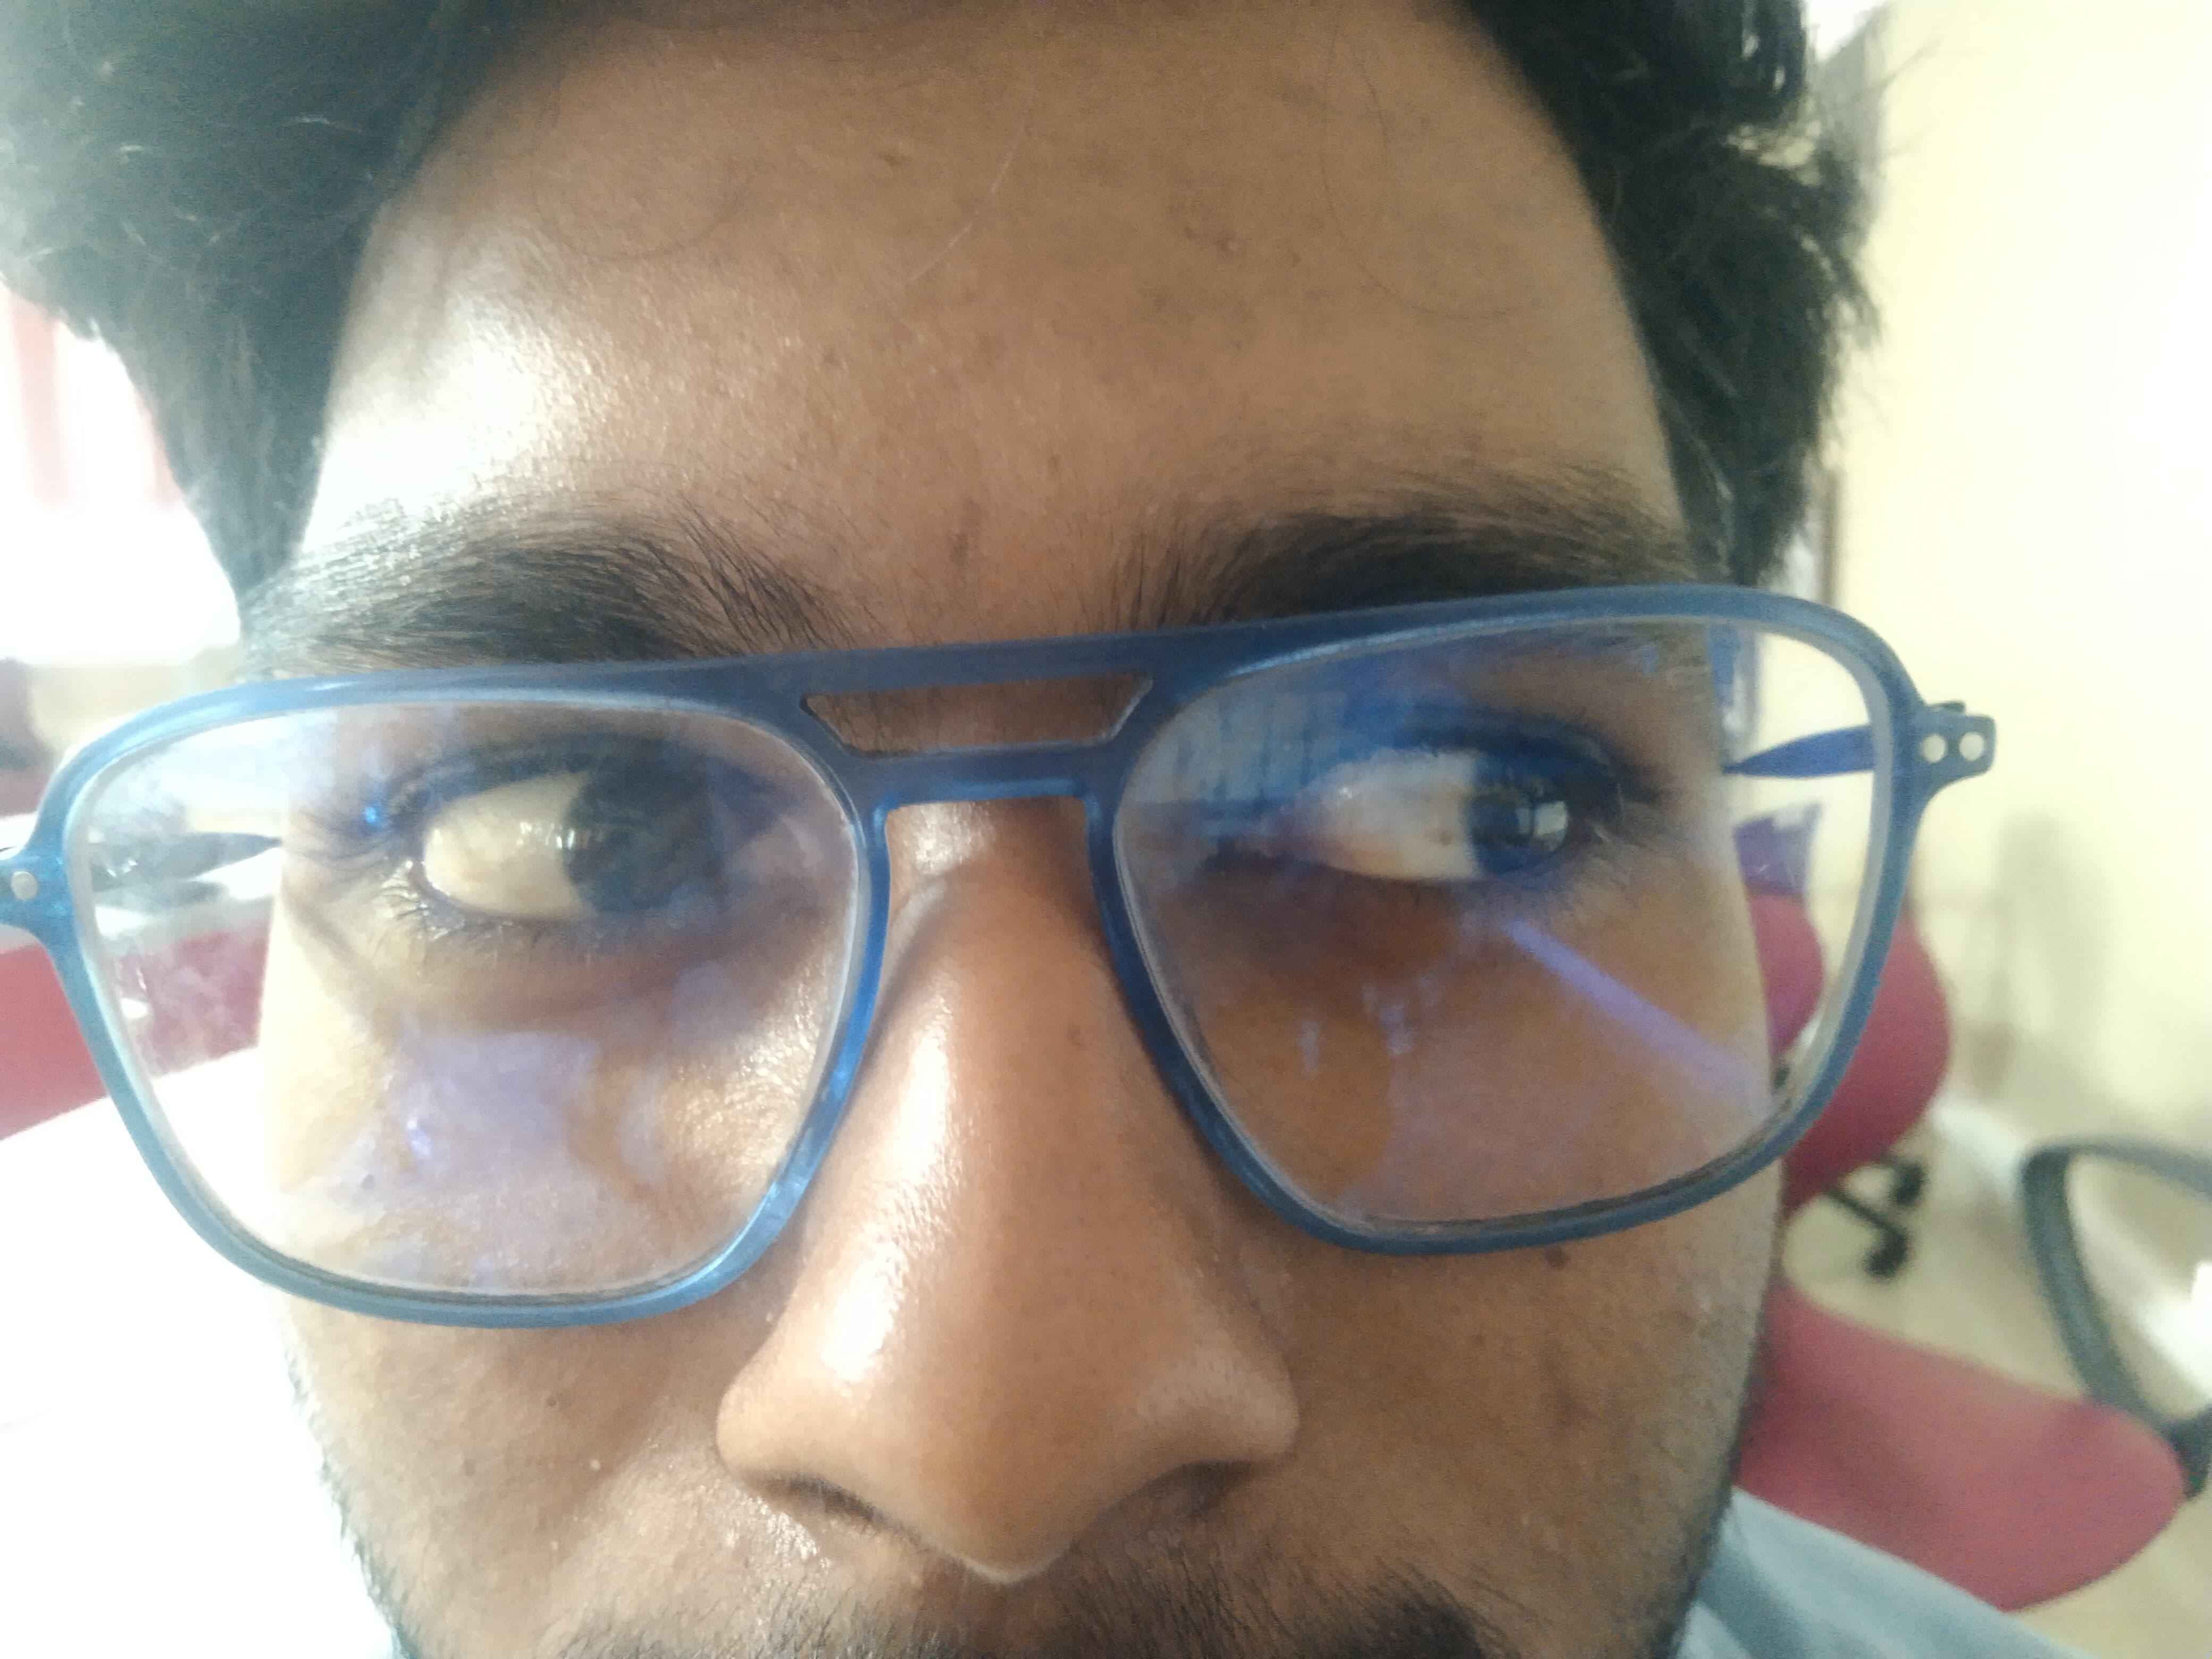EYE LEFT: (1057, 568, 1989, 1384), (23, 573, 946, 1356)
